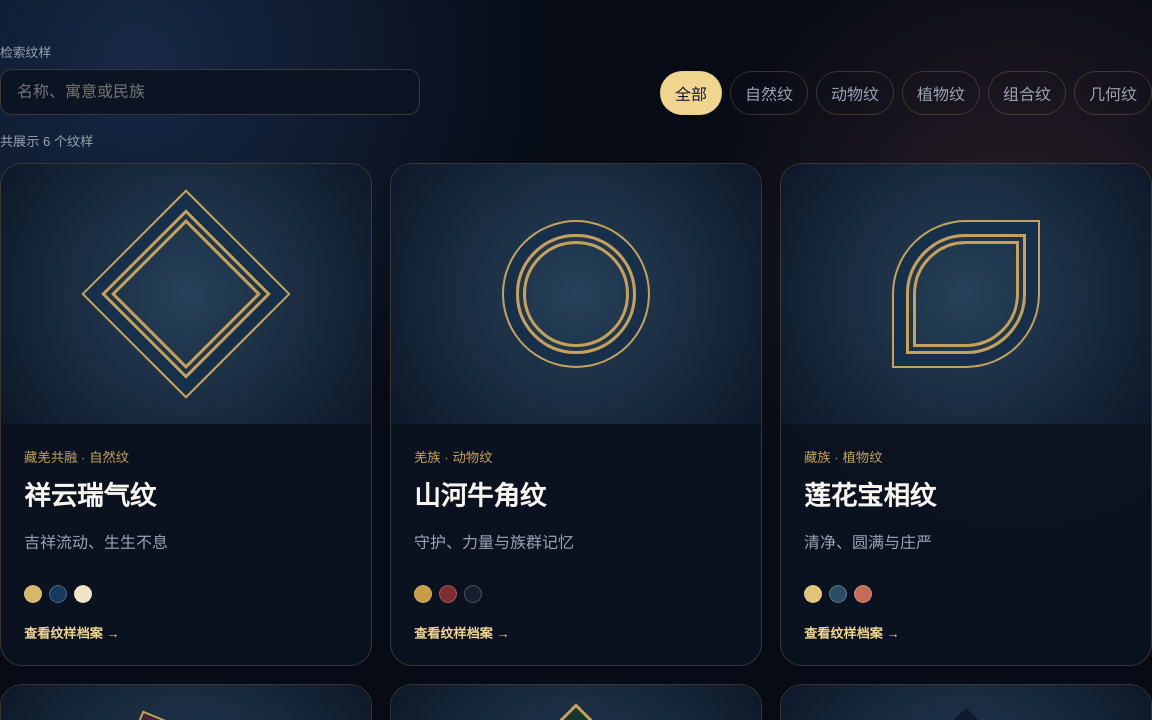
PatternBrowser › filters patterns by search text
Type "莲花" into the field with placeholder "名称、寓意或民族" at (210, 92), box 0,69 -> 420,115
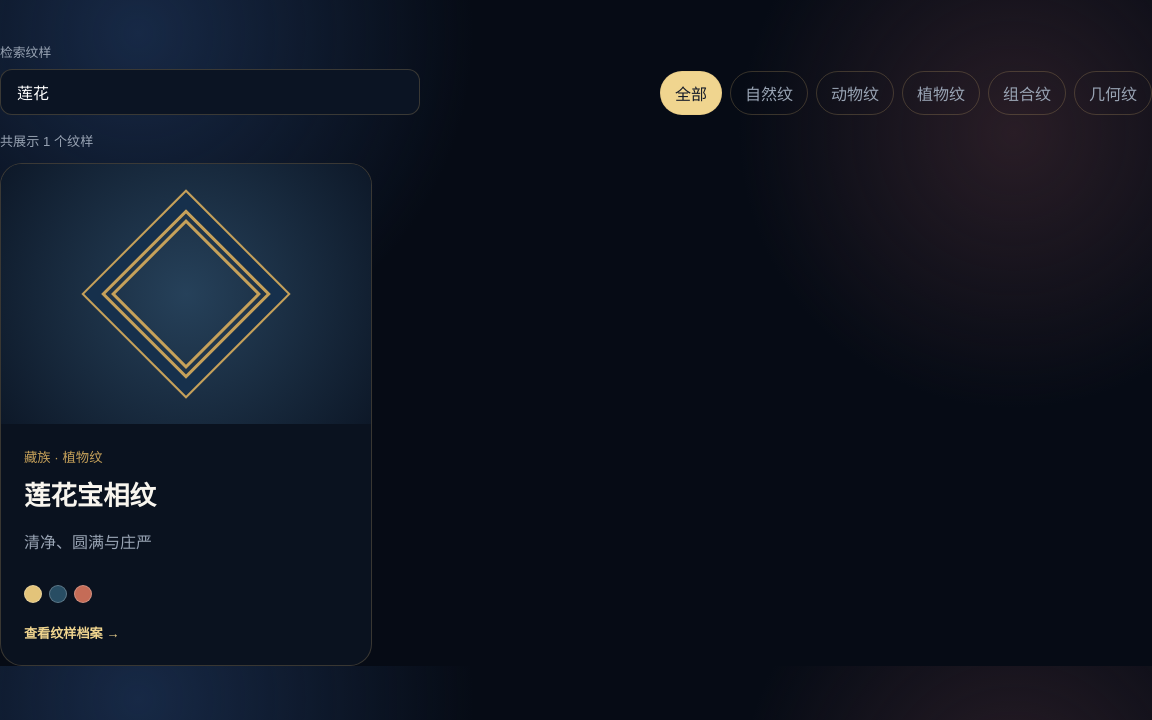
Expected: the heading "莲花宝相纹" is shown, 24,481 -> 156,511
Now the link "山河牛角纹" is gone
